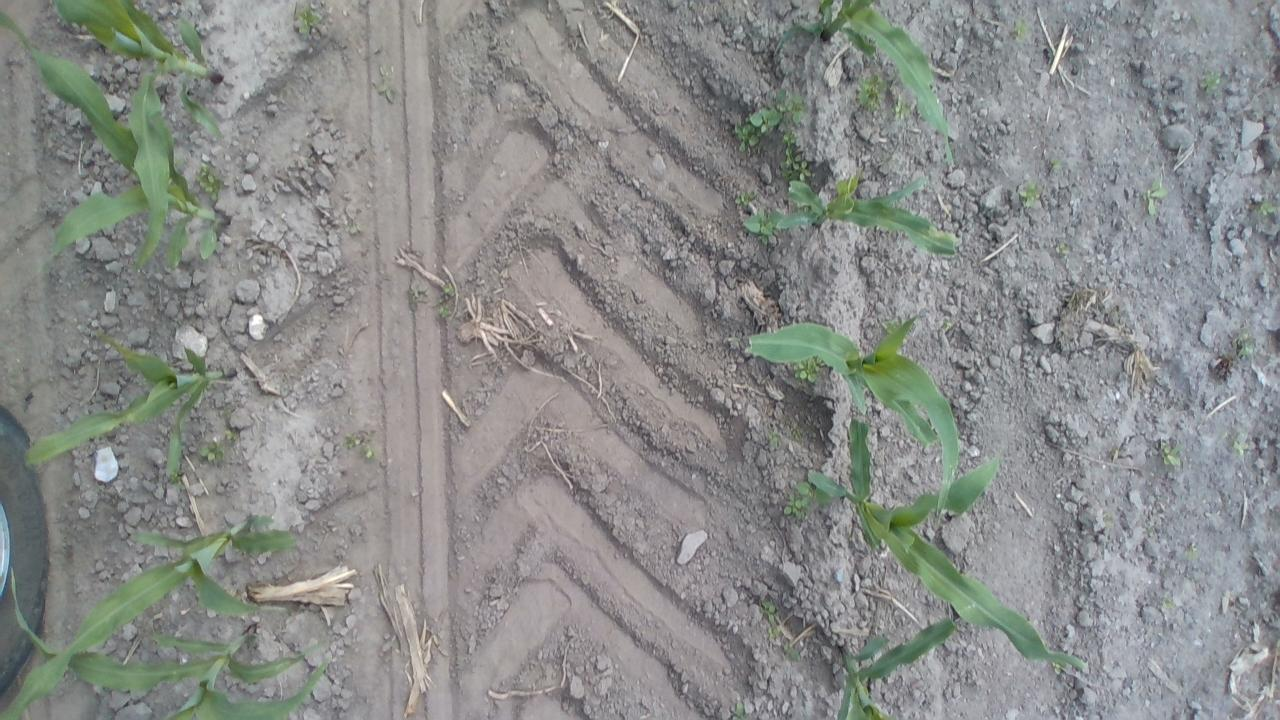Maize: (804, 413, 1090, 673), (0, 0, 230, 273), (0, 509, 294, 720), (6, 563, 336, 720), (726, 310, 960, 530), (45, 0, 222, 267), (25, 329, 235, 478), (775, 0, 956, 168), (774, 168, 960, 258), (833, 611, 961, 720)
Weeds: (732, 86, 808, 152), (784, 480, 834, 520), (776, 128, 812, 182), (740, 206, 783, 246), (856, 72, 890, 112), (196, 160, 223, 202), (794, 352, 826, 384), (1143, 179, 1167, 216), (374, 66, 396, 104), (296, 5, 321, 37), (1018, 179, 1041, 208), (1234, 324, 1252, 358), (198, 441, 226, 462), (1160, 442, 1182, 468), (1200, 72, 1222, 96), (879, 317, 908, 335), (890, 98, 913, 120), (1010, 18, 1030, 42), (758, 598, 776, 624), (733, 188, 757, 206), (1256, 198, 1275, 218), (1230, 430, 1244, 456), (784, 642, 804, 660), (170, 468, 187, 488), (766, 426, 782, 447), (732, 700, 748, 720), (790, 426, 806, 442), (343, 435, 360, 450), (796, 202, 814, 216), (1184, 545, 1200, 560), (1051, 660, 1065, 676), (1161, 596, 1177, 610), (436, 302, 450, 318), (1048, 156, 1063, 170), (362, 445, 376, 460), (1054, 242, 1070, 255), (1102, 511, 1114, 528), (173, 156, 185, 172), (348, 224, 364, 235), (226, 428, 238, 442), (442, 282, 454, 295), (769, 625, 780, 639), (942, 317, 952, 331), (249, 633, 259, 644), (1064, 296, 1072, 302)
